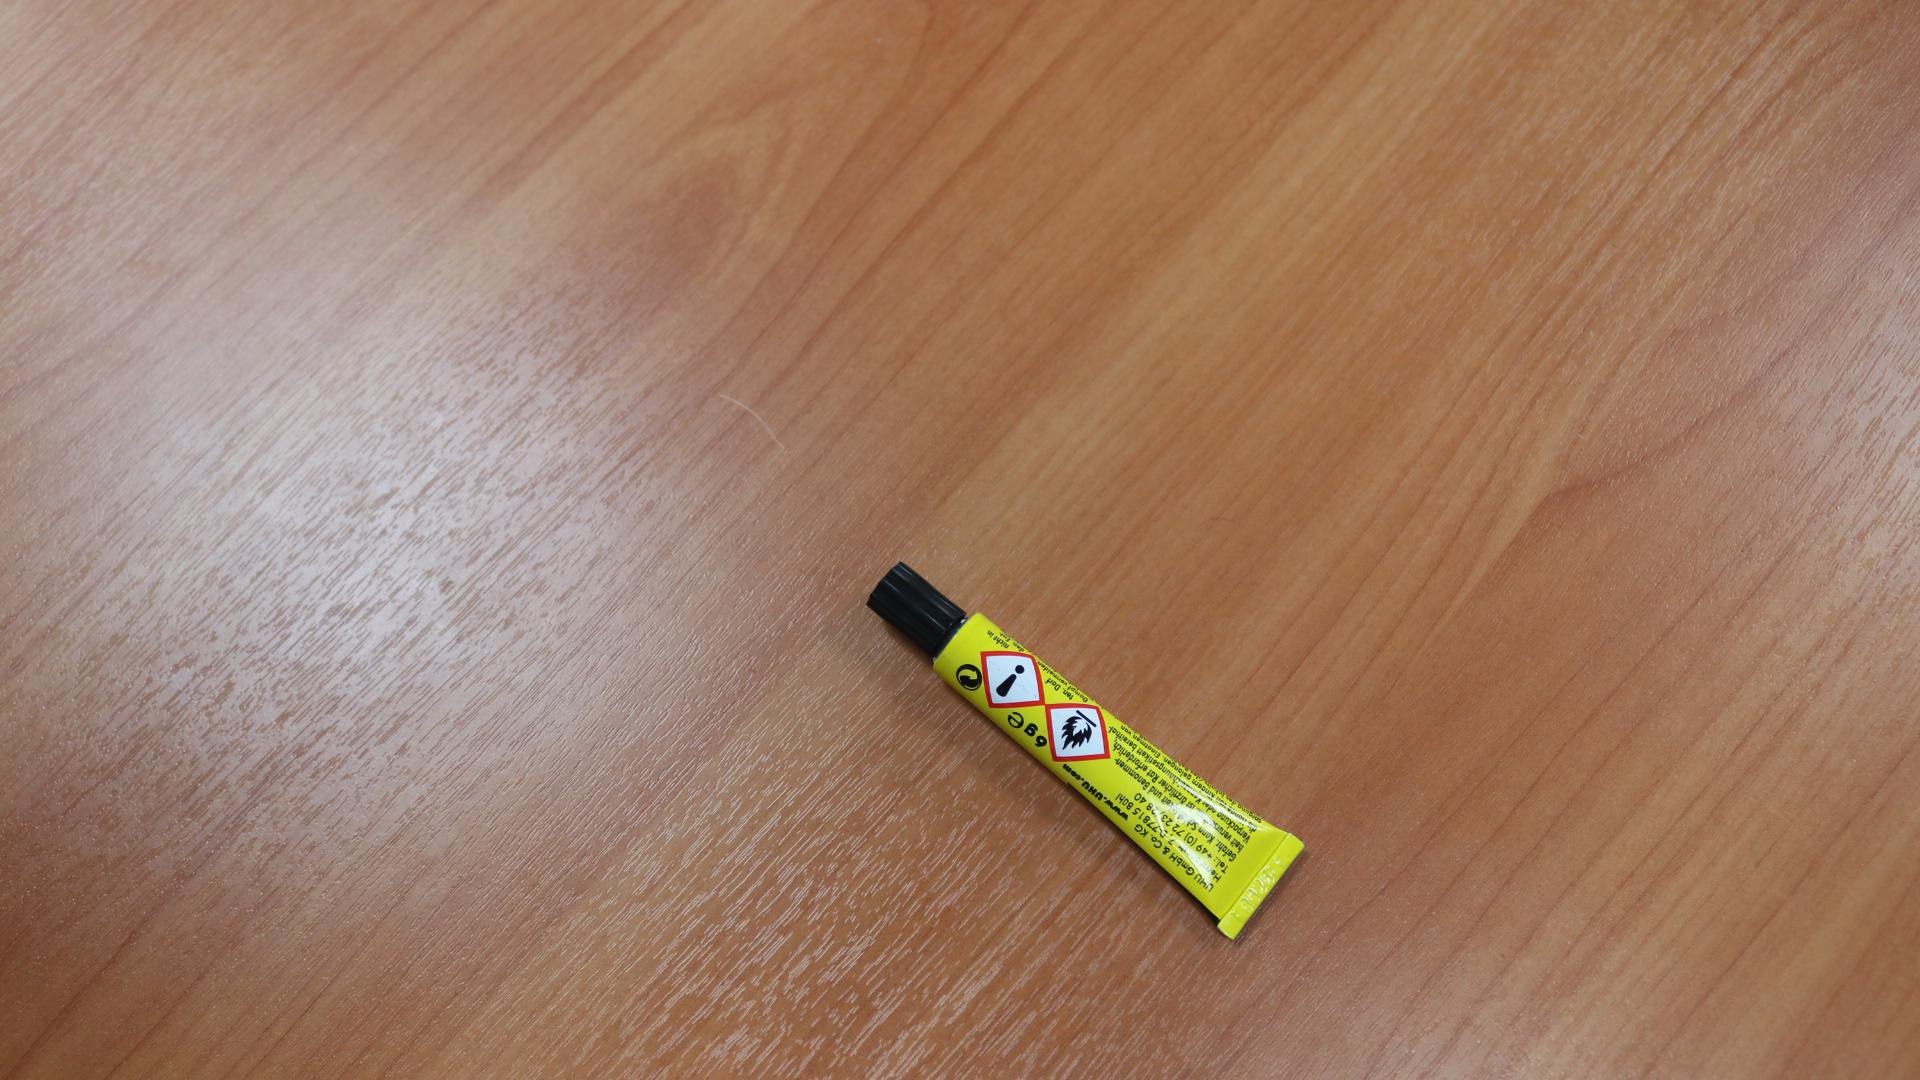Head: (909, 596, 923, 613)
Tail: (1251, 881, 1267, 899)
Tube: (869, 562, 1306, 941)
